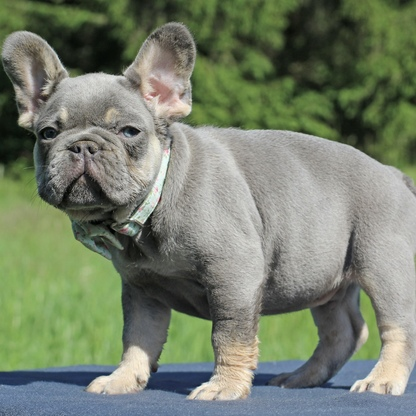bulldog: (3, 17, 416, 403)
